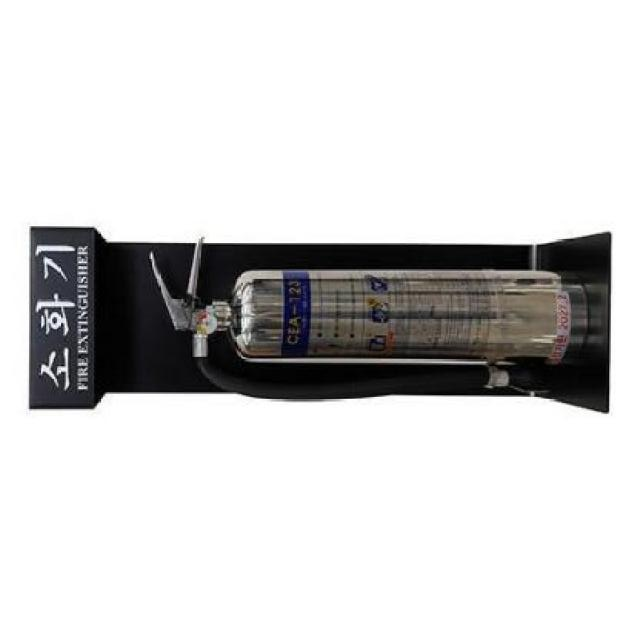fire extinguisher: (148, 237, 588, 403)
